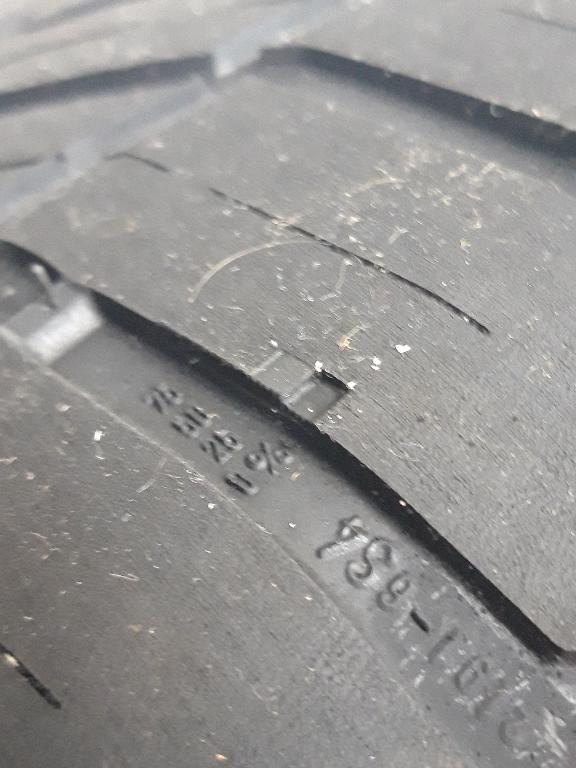temoin:25: (239, 340, 366, 448)
